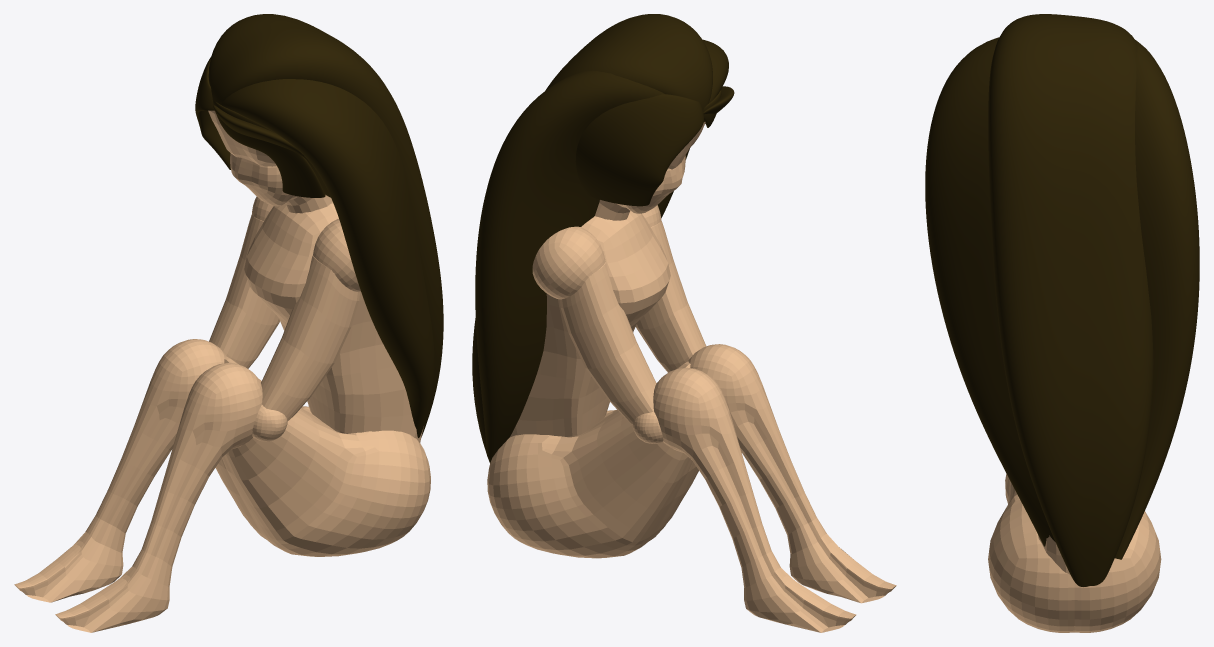
The model's file is 3D_WOMAN.fbx.
3 views of the same model, side by side, from view 1: azimuth 30°, elevation 25°; view 2: azimuth 150°, elevation 25°; view 3: azimuth 270°, elevation 25° (orthographic). The views are drawn at different scales.
Parts seen in each view (by area): view 1: Roundcube, NurbsPath.001, Roundcube.005, NurbsPath.002; view 2: Roundcube, NurbsPath.001, Roundcube.005, NurbsPath.002; view 3: NurbsPath.001, Roundcube.
Part boxes in pixels (left/top/right/bottom): Roundcube: left=14, top=110, right=430, bottom=632; NurbsPath.001: left=208, top=14, right=443, bottom=437; Roundcube.005: left=209, top=196, right=360, bottom=441; NurbsPath.002: left=195, top=56, right=330, bottom=197; Roundcube: left=487, top=122, right=896, bottom=632; NurbsPath.001: left=472, top=14, right=728, bottom=463; Roundcube.005: left=532, top=205, right=706, bottom=443; NurbsPath.002: left=575, top=86, right=734, bottom=206; NurbsPath.001: left=925, top=14, right=1199, bottom=586; Roundcube: left=988, top=474, right=1161, bottom=632.
Bounding box in the file's own units: 492 × 646 × 285.
